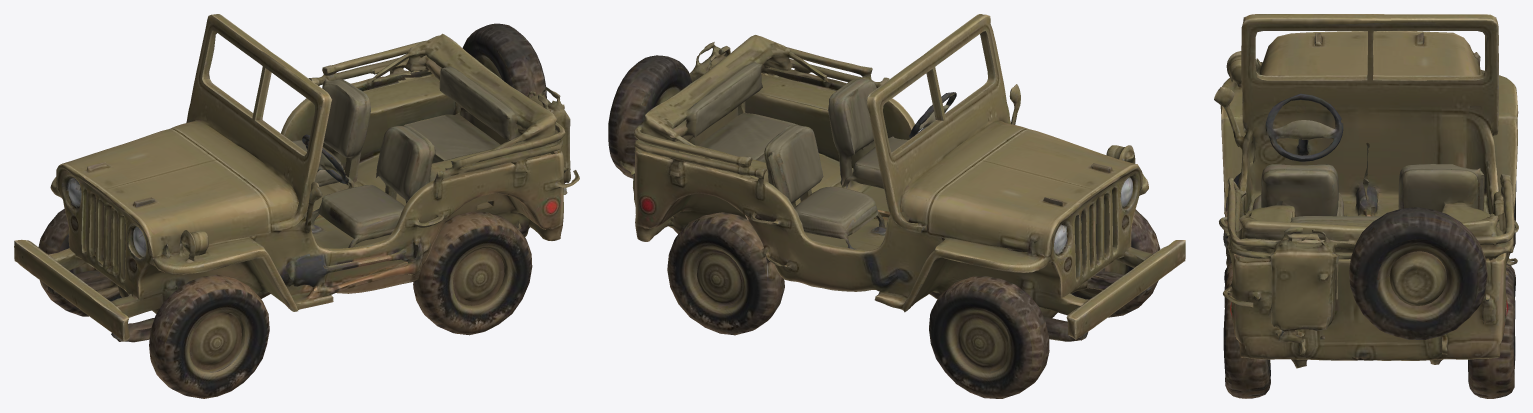
Rendered from jeep.glb.
The picture shows the model from 3 angles, left to right: view 1: azimuth 30°, elevation 25°; view 2: azimuth 150°, elevation 25°; view 3: azimuth 270°, elevation 25°; orthographic projection. The views are drawn at different scales.
Size of the model in its own units: 1.9 by 1.04 by 0.96.
1 material, 1 textured.
